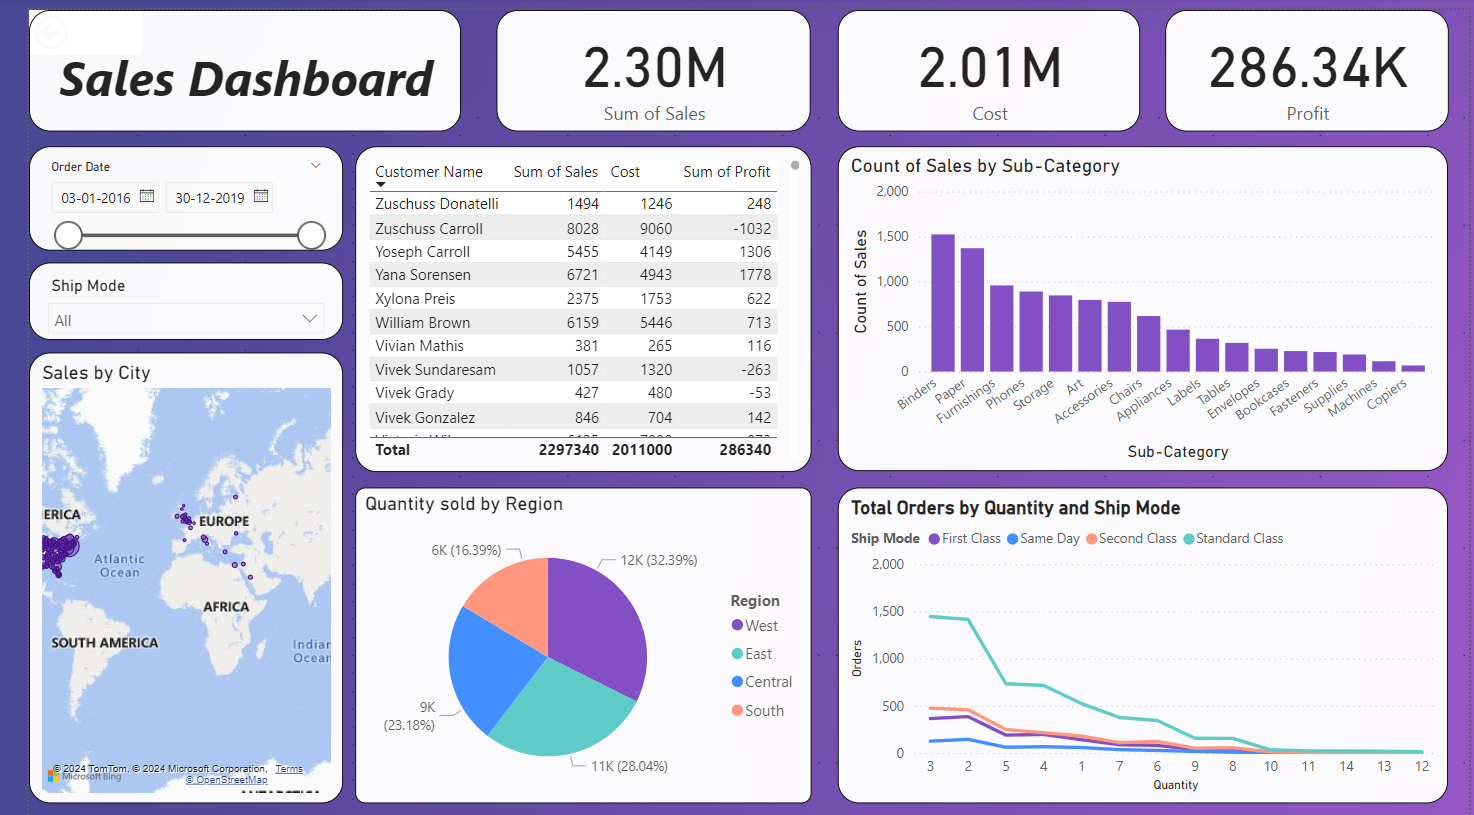

Layout of this report page (visuals, bound fields, positions):
{"tool":"powerbi","page":{"name":"Page 1","canvas":[1280,720],"ordinal":0},"visuals":[{"type":"slicer","fields":{"Values":["Superstore.Order Date"]},"box":[0,120.7,279.3,93.1],"z":0},{"type":"actionButton","box":[0,0,100,40],"z":1000},{"type":"slicer","fields":{"Values":["Superstore.Ship Mode"]},"box":[0,224.4,278.9,68.9],"z":2000},{"type":"card","fields":{"Values":["Superstore.Cost"]},"box":[718.5,0,269.1,107.6],"z":3000},{"type":"tableEx","fields":{"Values":["Superstore.Customer Name","Superstore.Sales","Superstore.Cost","Superstore.Profit"]},"box":[289.5,120.7,405.8,289.5],"z":4000},{"type":"map","title":" Sales by City","fields":{"Size":["Superstore.Sales"],"Category":["Superstore.City"]},"box":[0,304.4,278.9,401.1],"z":5000},{"type":"pieChart","title":"Quantity sold by Region","fields":{"Y":["Superstore.Quantity"],"Category":["Superstore.Region"]},"box":[289.5,424.7,405.8,280.7],"z":6000},{"type":"columnChart","fields":{"Y":["Superstore.Sales"],"Category":["Superstore.Sub-Category"]},"box":[718.9,120.6,542.5,289.1],"z":7000},{"type":"lineChart","title":"Total Orders by Quantity and Ship Mode","fields":{"Category":["Superstore.Quantity"],"Y":["Superstore.Order ID"],"Series":["Superstore.Ship Mode"]},"box":[718.5,424.7,542.5,280.7],"z":8000},{"type":"card","fields":{"Values":["Superstore.Profit"]},"box":[1009.5,0,251.6,107.6],"z":9000},{"type":"textbox","box":[0,0,402.5,93.8],"z":10000},{"type":"card","fields":{"Values":["Superstore.Sales"]},"box":[416,0,279,108],"z":11000}]}

Visuals, with their boxes in screenshot pixels (x1, y1, x2, y2), scaled from the page's 1280x720 canvas onto the 1474x815 screenshot:
slicer - Superstore.Order Date: bbox=[0, 137, 322, 242]
actionButton: bbox=[0, 0, 115, 45]
slicer - Superstore.Ship Mode: bbox=[0, 254, 321, 332]
card - Superstore.Cost: bbox=[827, 0, 1137, 122]
tableEx - Superstore.Customer Name x Superstore.Sales: bbox=[333, 137, 801, 464]
" Sales by City" map: bbox=[0, 345, 321, 799]
"Quantity sold by Region" pieChart: bbox=[333, 481, 801, 798]
columnChart - Superstore.Sales x Superstore.Sub-Category: bbox=[828, 137, 1453, 464]
"Total Orders by Quantity and Ship Mode" lineChart: bbox=[827, 481, 1452, 798]
card - Superstore.Profit: bbox=[1163, 0, 1452, 122]
textbox: bbox=[0, 0, 464, 106]
card - Superstore.Sales: bbox=[479, 0, 800, 122]
